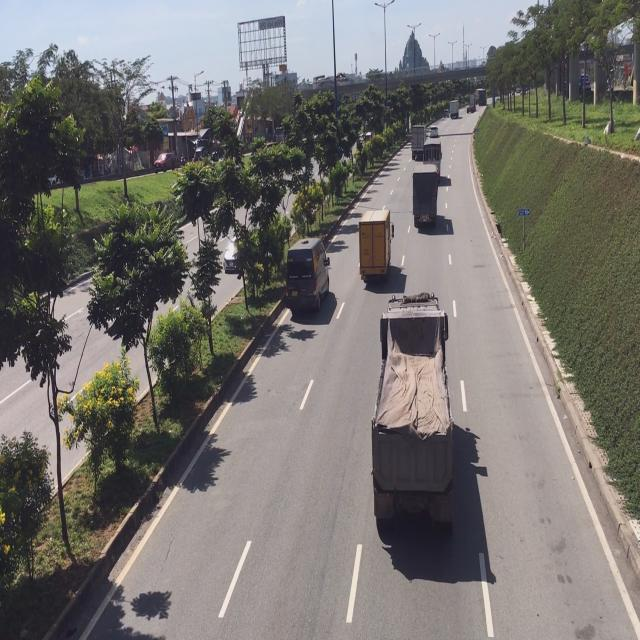bus: (286, 238, 329, 314)
truck: (374, 290, 452, 546), (359, 208, 393, 282), (411, 163, 439, 226), (410, 124, 425, 159), (423, 138, 442, 164)
